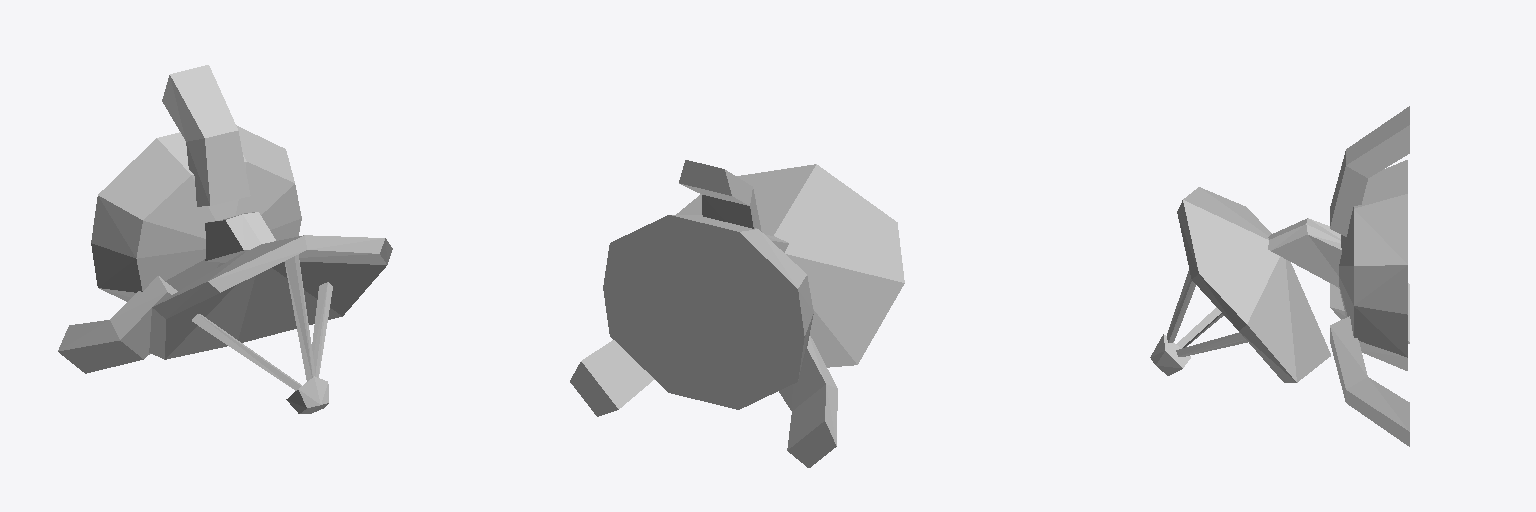
The model's file is comm-tower-03.obj.
The picture shows the model from 3 angles: view 1: azimuth 30°, elevation 25°; view 2: azimuth 150°, elevation 25°; view 3: azimuth 270°, elevation 25°; orthographic projection.
Parts seen in each view (by area): view 1: comm_tower_03; view 2: comm_tower_03; view 3: comm_tower_03.
Part boxes in pixels (x1,y1,x2,y2): comm_tower_03: (58, 65, 392, 413); comm_tower_03: (570, 160, 904, 467); comm_tower_03: (1150, 106, 1409, 446).
Bounding box in the file's own units: 3.99 × 3.99 × 3.36.